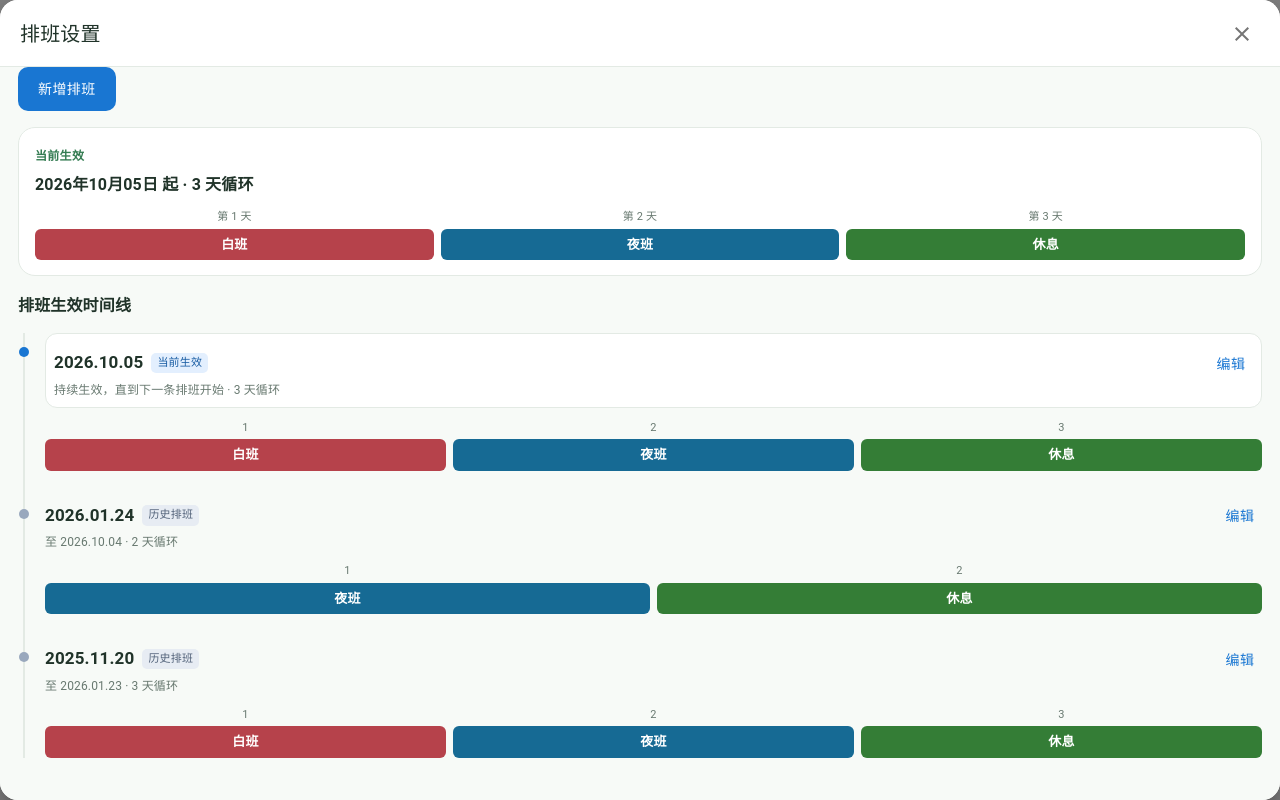
Test case: 编辑弹窗在键盘压缩视口时跟随可见高度
Click the button "编辑" in the row of "持续生效，直到下一条排班开始": (1231, 364) [1209,342,1253,386]
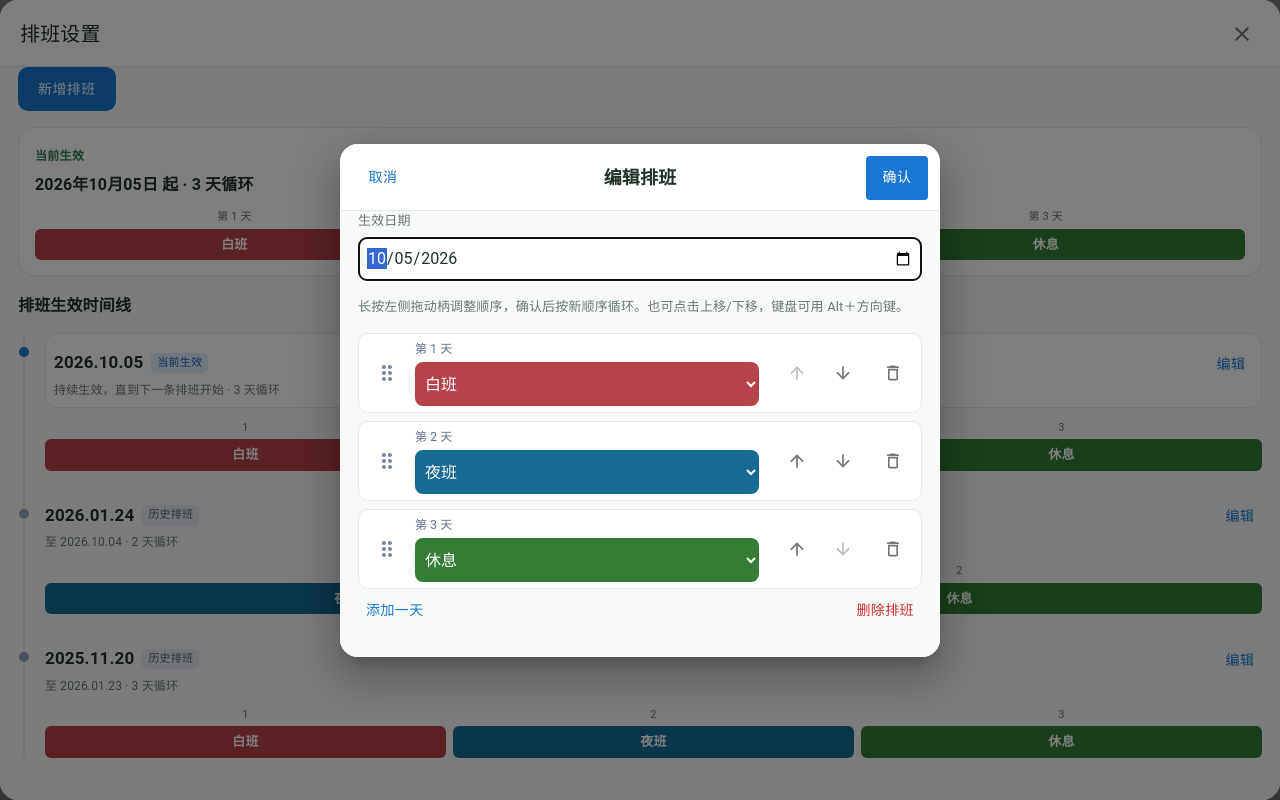
Expected: the dialog is shown, [340,144,940,656]
